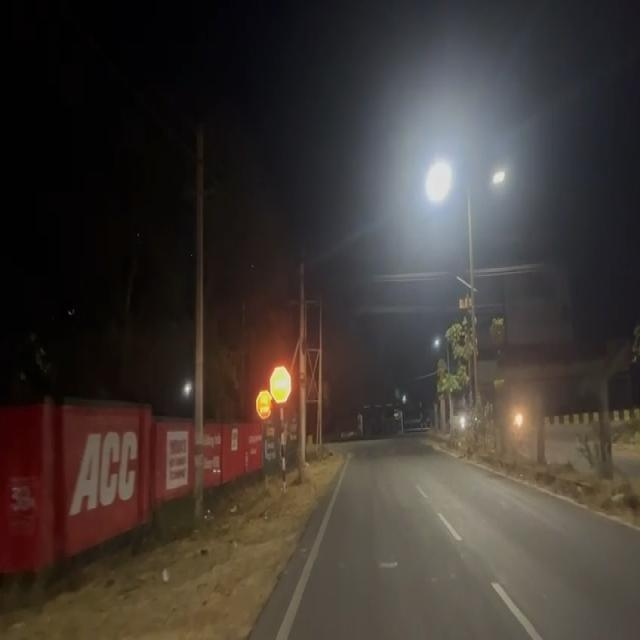bien_nguy_hiem: (270, 363, 291, 405), (255, 387, 272, 420)
